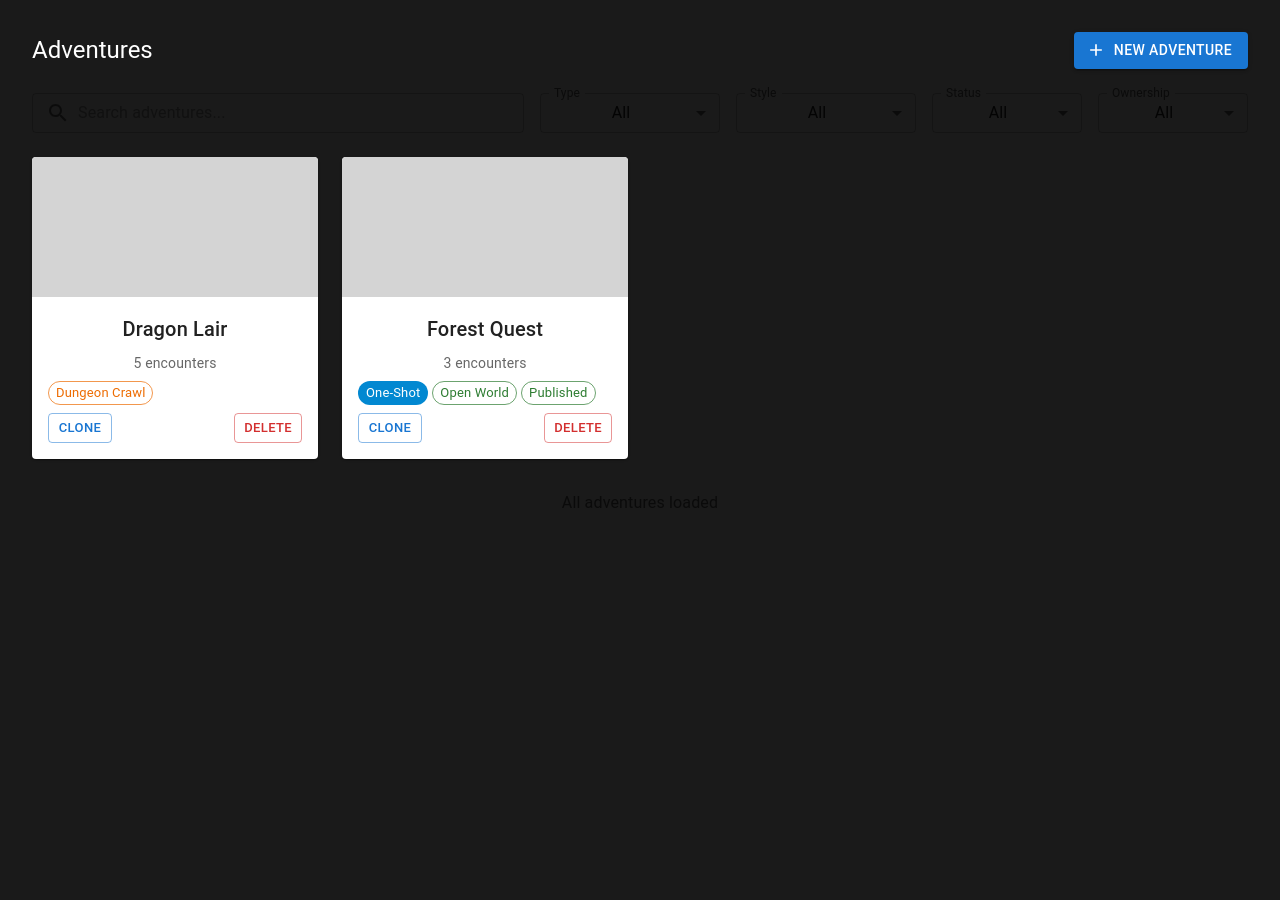
Test: AdventureListView › delete flow › should close dialog on cancel
Click the 1st button "Delete" at (268,428), box [234,412,302,443]
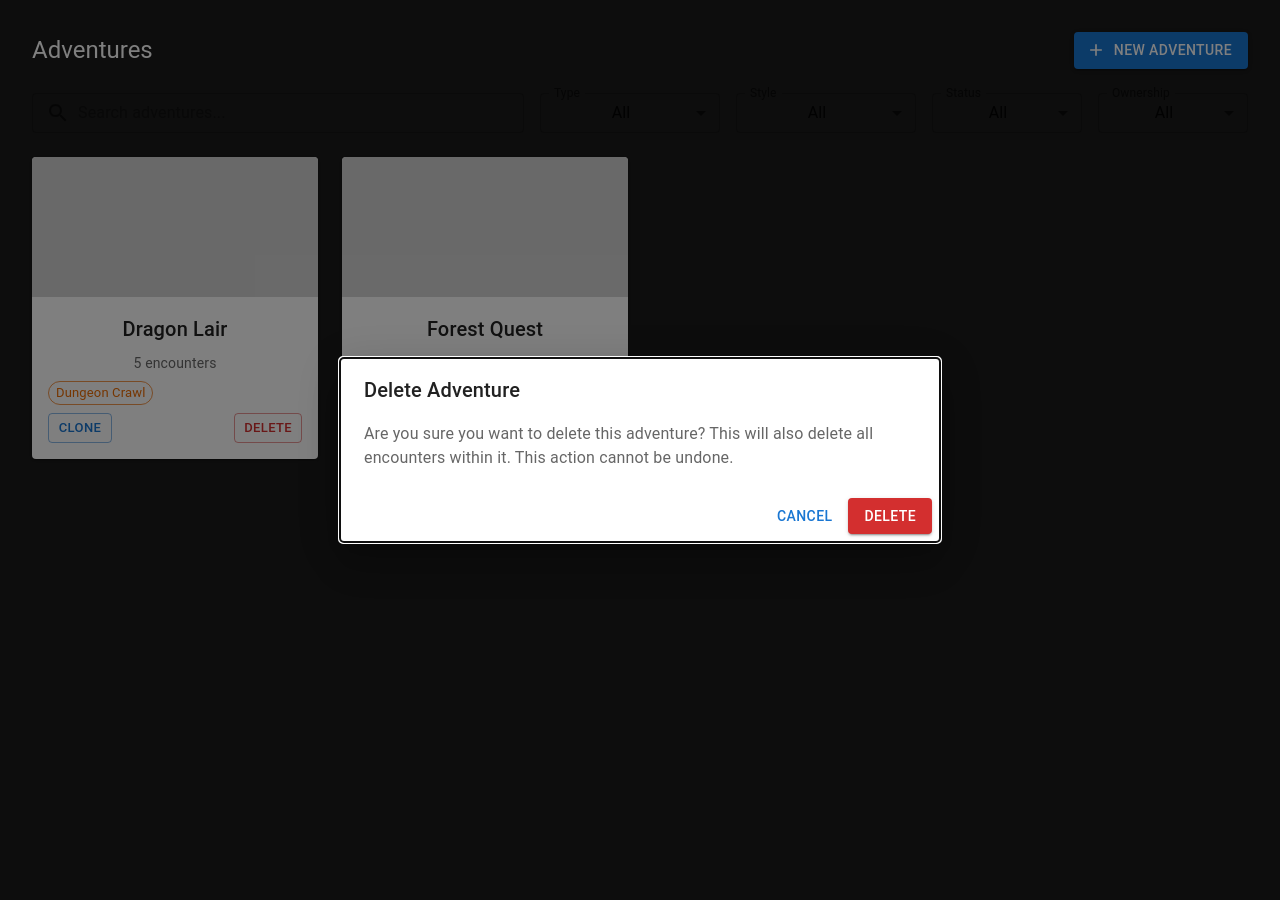
Click the button "Cancel" at (805,516), box [769,498,840,534]
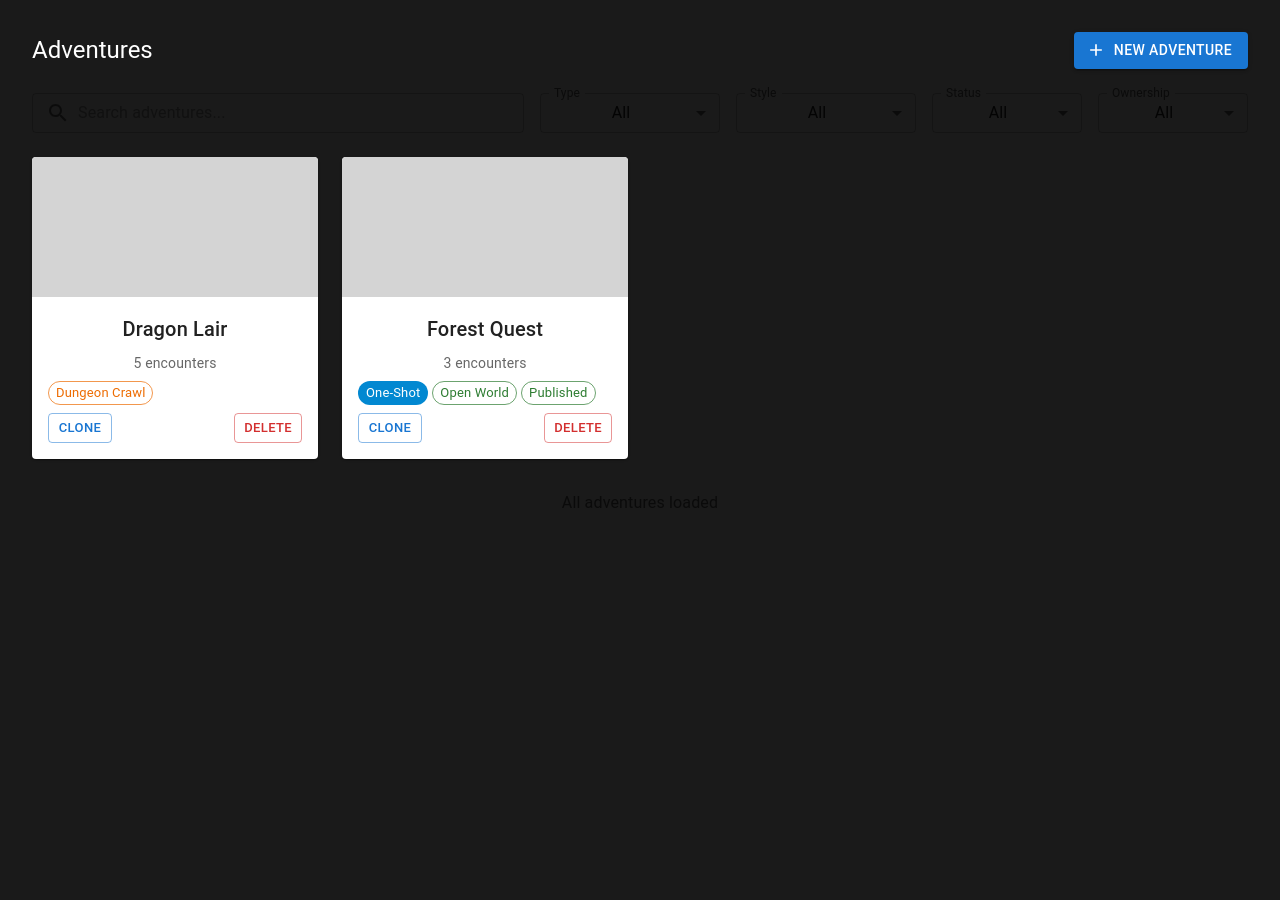
Check: the dialog is gone
